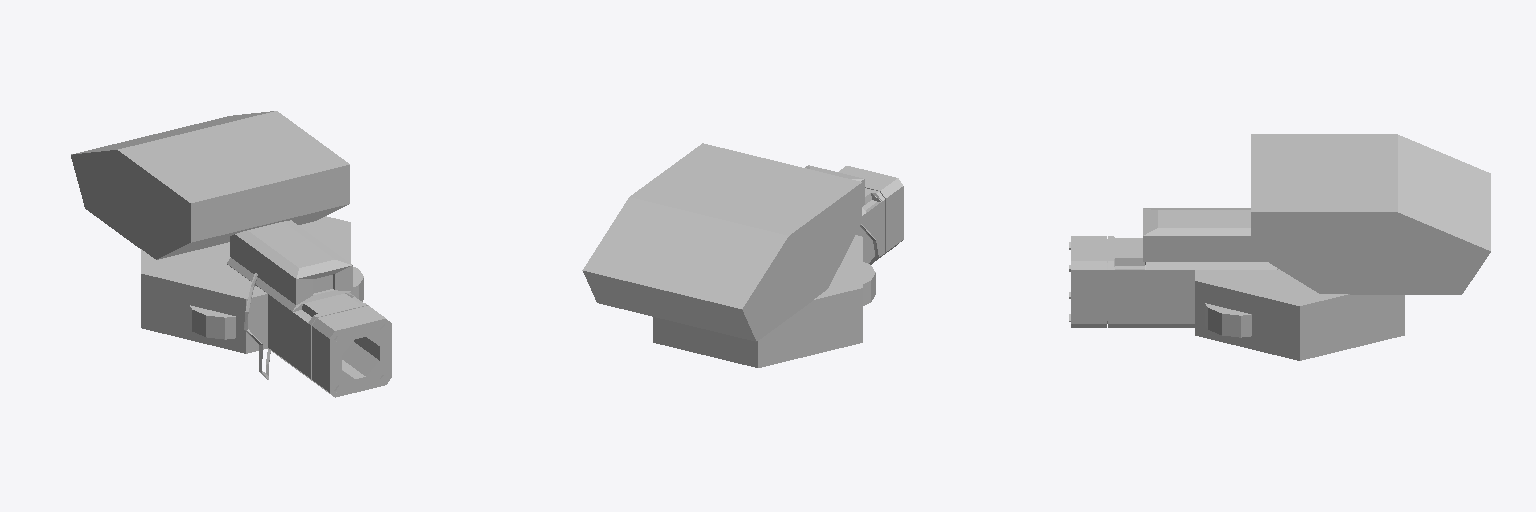
The model's file is Drone_Turret.obj.
3 renders of one model, left to right at view 1: azimuth 30°, elevation 25°; view 2: azimuth 150°, elevation 25°; view 3: azimuth 270°, elevation 25°, orthographic.
Visible parts, largest first — view 1: pCube60; view 2: pCube60; view 3: pCube60.
Boxes of the visible parts, box(x1,y1,x2,y2) form: pCube60: box(71, 111, 391, 397); pCube60: box(582, 143, 903, 367); pCube60: box(1069, 134, 1490, 360).
Size of the model in its own units: 1.72 by 1.29 by 2.99.